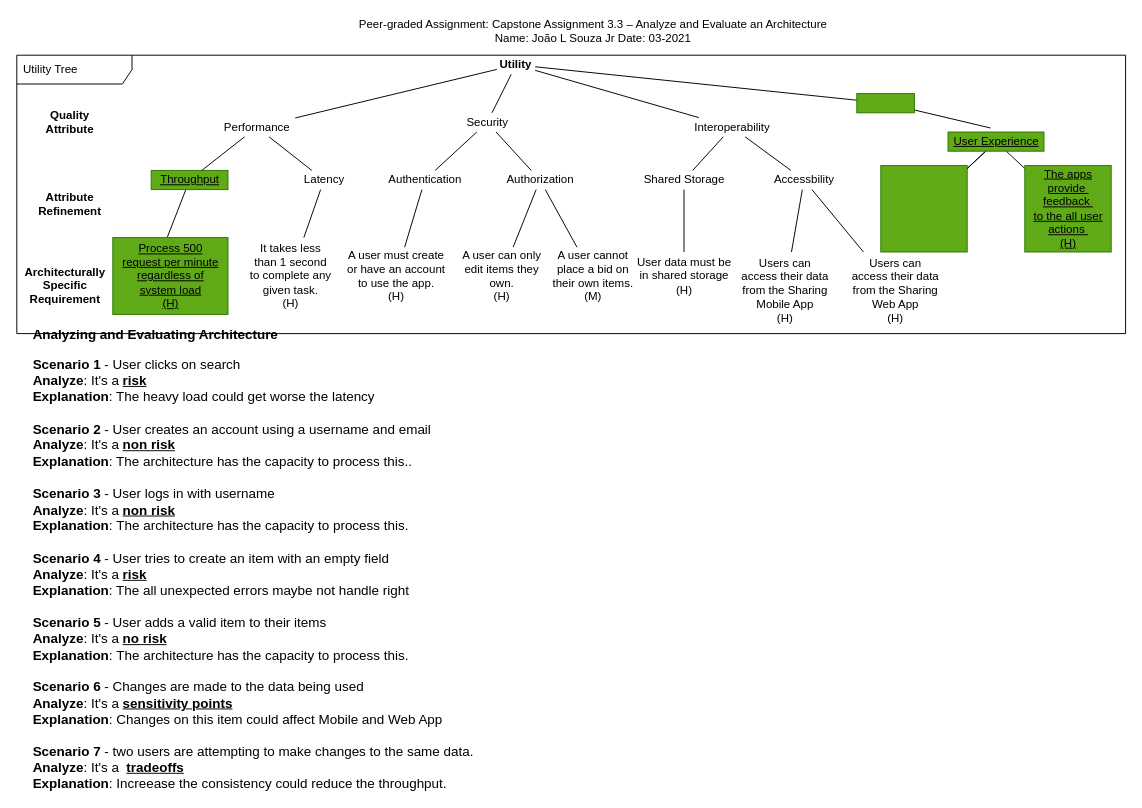
Image size: 1142x808. Some labels were removed from this diagram. The centre of each missing label's shape, as x and y in pixels:
"The apps try to minimize user errors and provide handler errors (H )" goes at point (923, 208).
"Usability" goes at point (885, 103).
